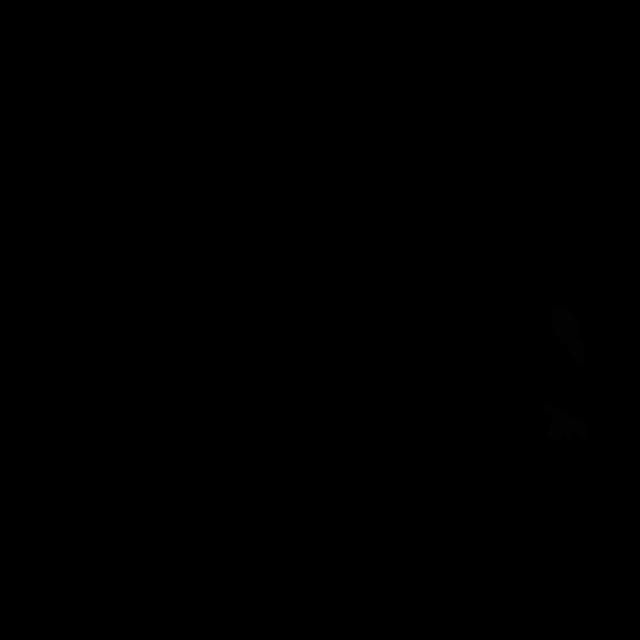cardboard: (550, 307, 584, 366), (544, 401, 590, 442)
